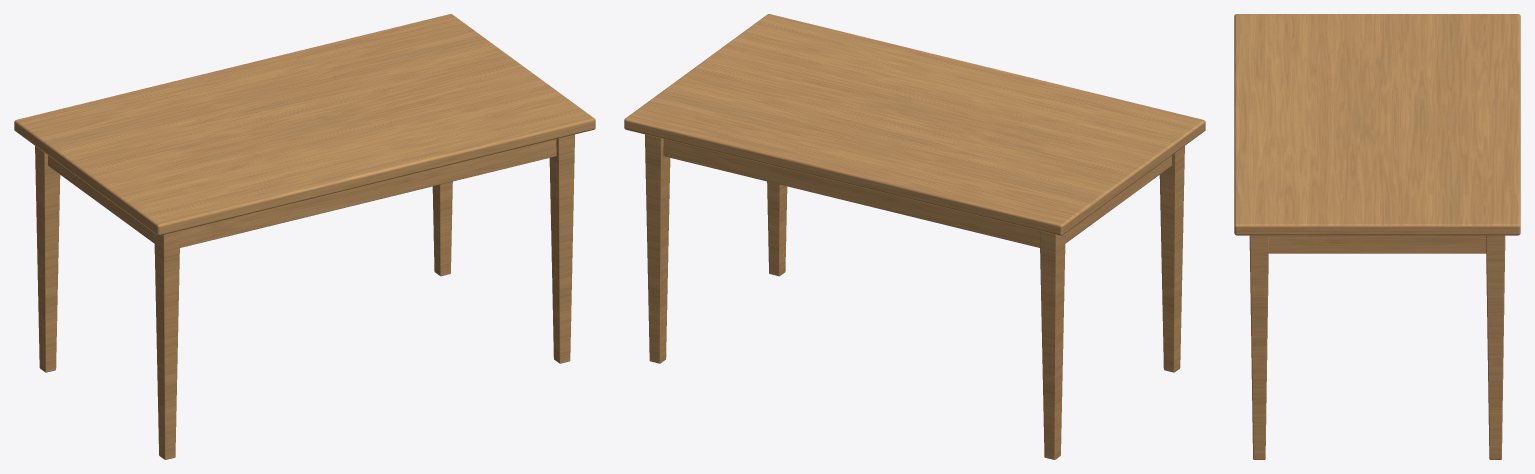
Rendered from dining_table.glb.
3 renders of one model, left to right at view 1: azimuth 30°, elevation 25°; view 2: azimuth 150°, elevation 25°; view 3: azimuth 270°, elevation 25°, orthographic.
Parts seen in each view (by area): view 1: dining_table_top, dining_table_legs, dining_table_apron; view 2: dining_table_top, dining_table_legs, dining_table_apron; view 3: dining_table_top, dining_table_legs, dining_table_apron.
Part boxes in pixels (<box>): dining_table_top: <box>14,14,595,235</box>; dining_table_legs: <box>35,134,574,459</box>; dining_table_apron: <box>47,139,556,247</box>; dining_table_top: <box>624,14,1205,235</box>; dining_table_legs: <box>645,134,1184,459</box>; dining_table_apron: <box>663,139,1172,247</box>; dining_table_top: <box>1234,14,1520,235</box>; dining_table_legs: <box>1249,235,1505,459</box>; dining_table_apron: <box>1268,235,1486,253</box>.
Bounding box in the file's own units: 1.4 × 0.75 × 0.8.
1 material, 1 textured.
